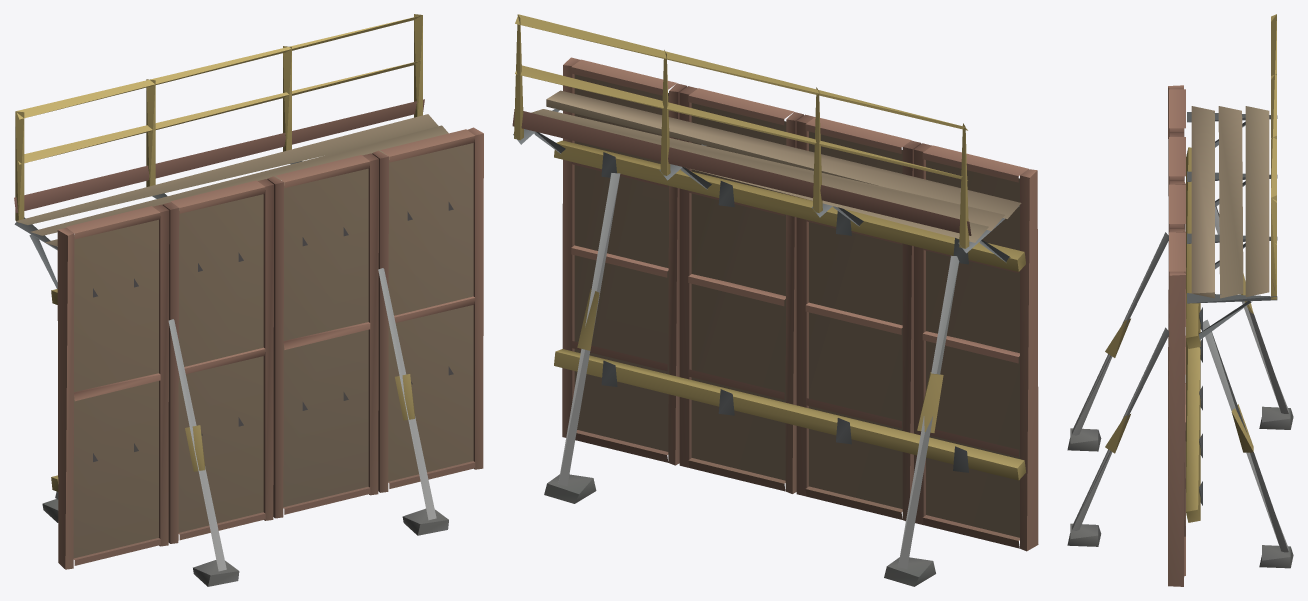
The model's file is formwork.lod1.glb.
3 views of the same model, side by side, from view 1: azimuth 30°, elevation 25°; view 2: azimuth 150°, elevation 25°; view 3: azimuth 270°, elevation 25° (orthographic). The views are drawn at different scales.
Size of the model in its own units: 3.99 by 3.78 by 2.
